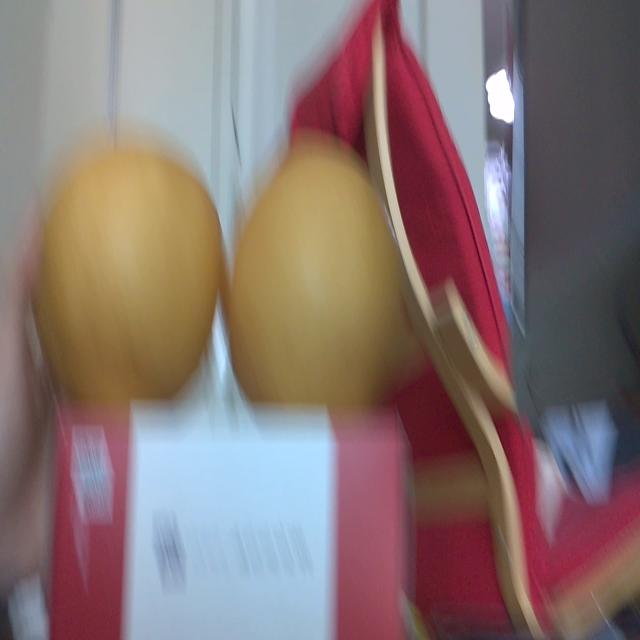pear: (36, 144, 223, 404), (222, 141, 406, 403)
